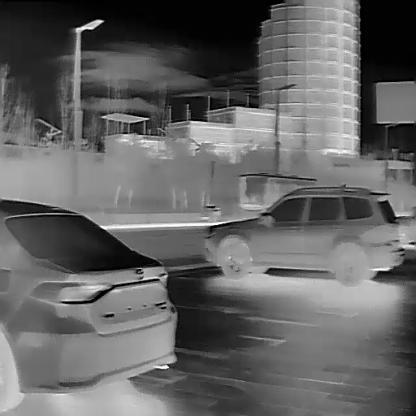car: (0, 195, 177, 415), (204, 183, 405, 285)
